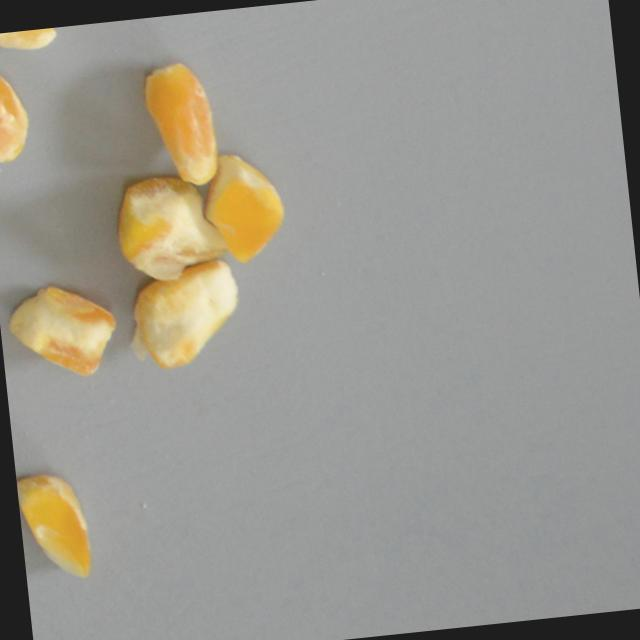pelicula: (102, 167, 224, 284), (128, 251, 235, 383), (181, 159, 301, 252), (114, 84, 252, 162), (17, 271, 108, 388), (17, 490, 116, 558), (0, 64, 38, 161), (0, 26, 56, 56)
